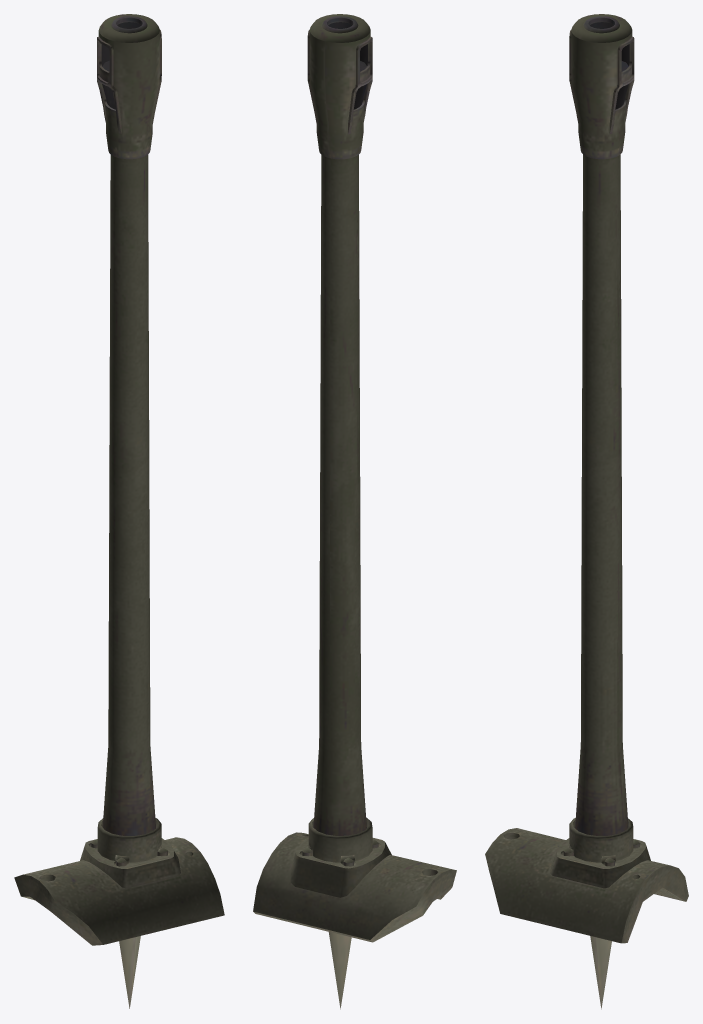
File: Gun_10.glb
The picture shows the model from 3 angles, left to right: view 1: azimuth 30°, elevation 25°; view 2: azimuth 150°, elevation 25°; view 3: azimuth 330°, elevation 25°; orthographic projection.
Parts seen in each view (by area): view 1: set_0_group_0; view 2: set_0_group_0; view 3: set_0_group_0.
Boxes of the visible parts, x1,y1,x2,y2 form: set_0_group_0: (14, 14, 224, 1008); set_0_group_0: (253, 14, 456, 1009); set_0_group_0: (485, 14, 688, 1009).
Bounding box in the file's own units: 0.8031 × 4.94 × 0.6119.
Materials: 1 (1 with a texture image).
